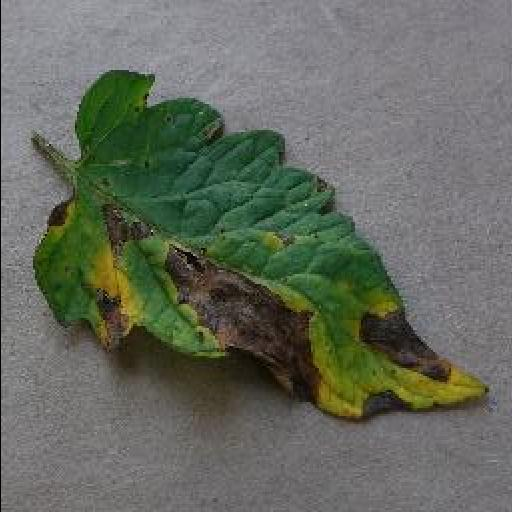disease_tomato: (27, 74, 493, 426)
